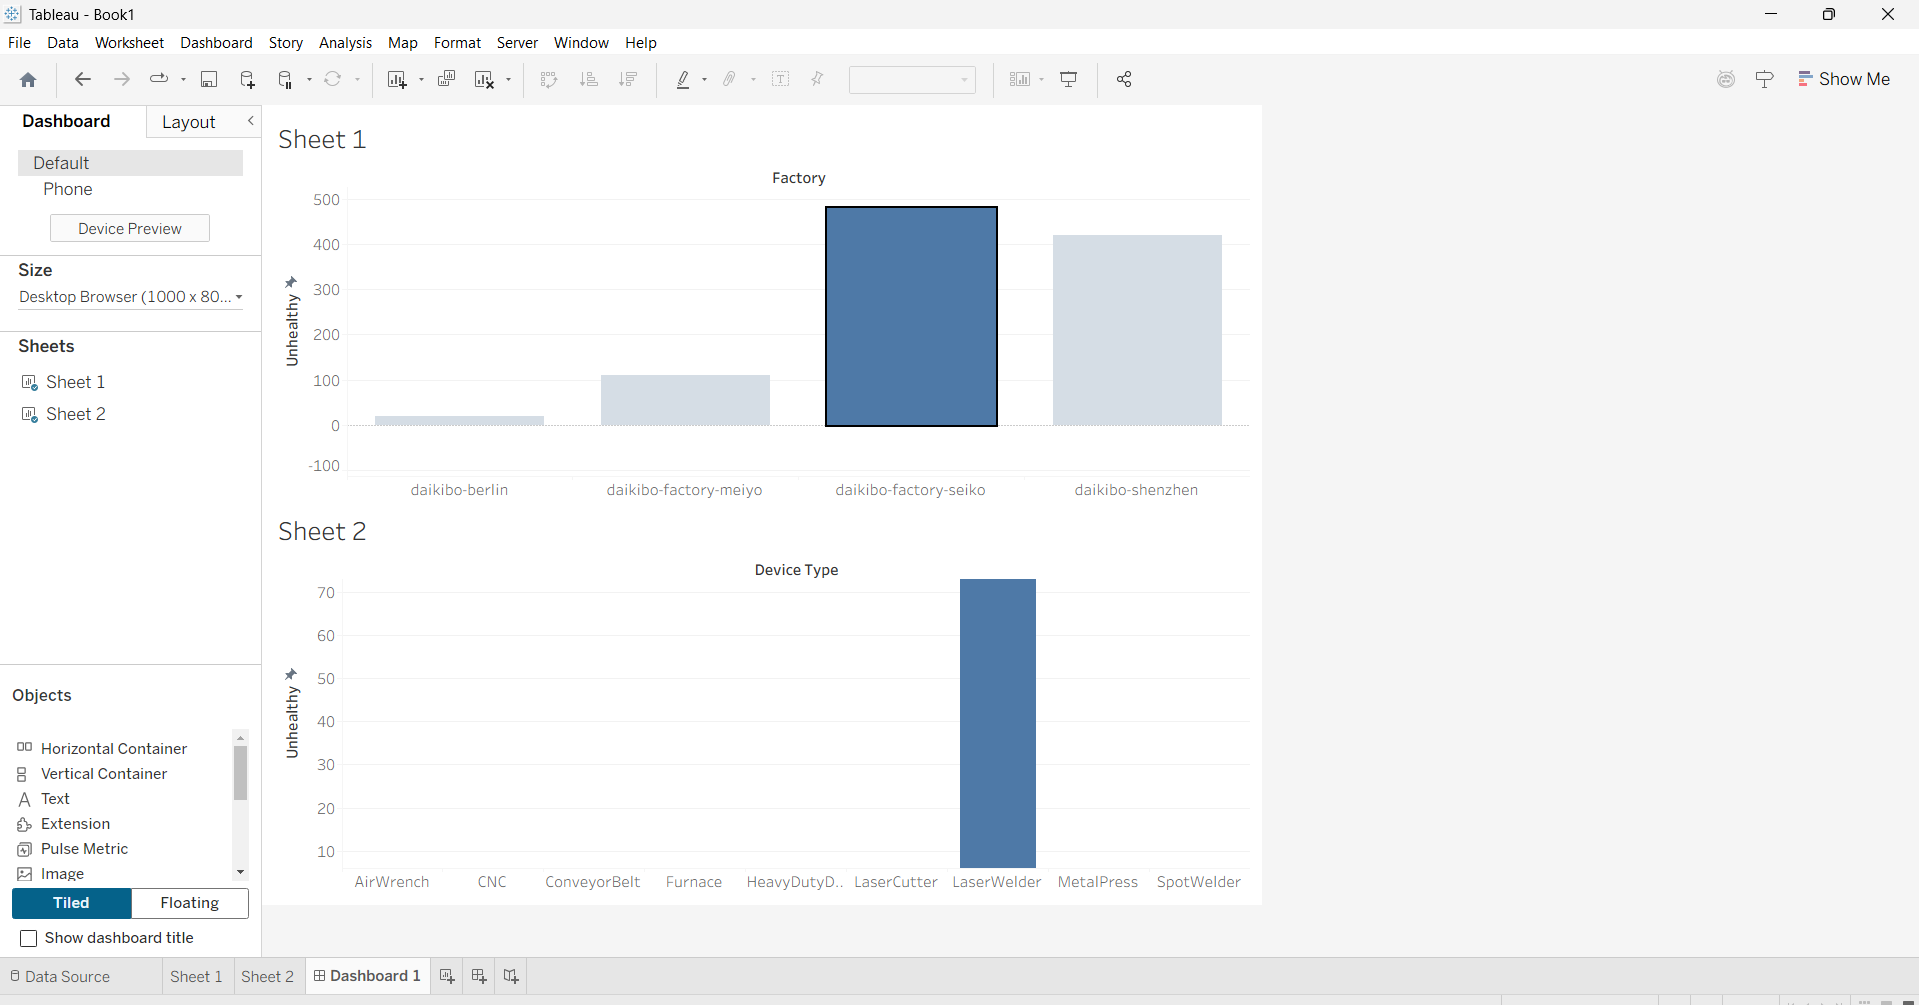

The page's visual inventory and layout, read from the dashboard file:
{"tool":"tableau","page":{"name":"Dashboard 1","canvas":[1000,800],"ordinal":0},"visuals":[{"type":"worksheet","title":"Sheet 1","mark":"Automatic","rows":["Calculation_822751388939993088"],"cols":["factory"],"box":[8,8,984,392]},{"type":"worksheet","title":"Sheet 2","mark":"Automatic","rows":["Calculation_822751388939993088"],"cols":["deviceType"],"box":[8,400,984,392]}]}

Visuals, with their boxes on the page's 1000x800 design canvas (x1, y1, x2, y2). These are canvas units, not pixel positions in the 1919x1005 screenshot, which may show the page scaled, cropped or inside an application window:
"Sheet 1" worksheet: box=[8, 8, 992, 400]
"Sheet 2" worksheet: box=[8, 400, 992, 792]
